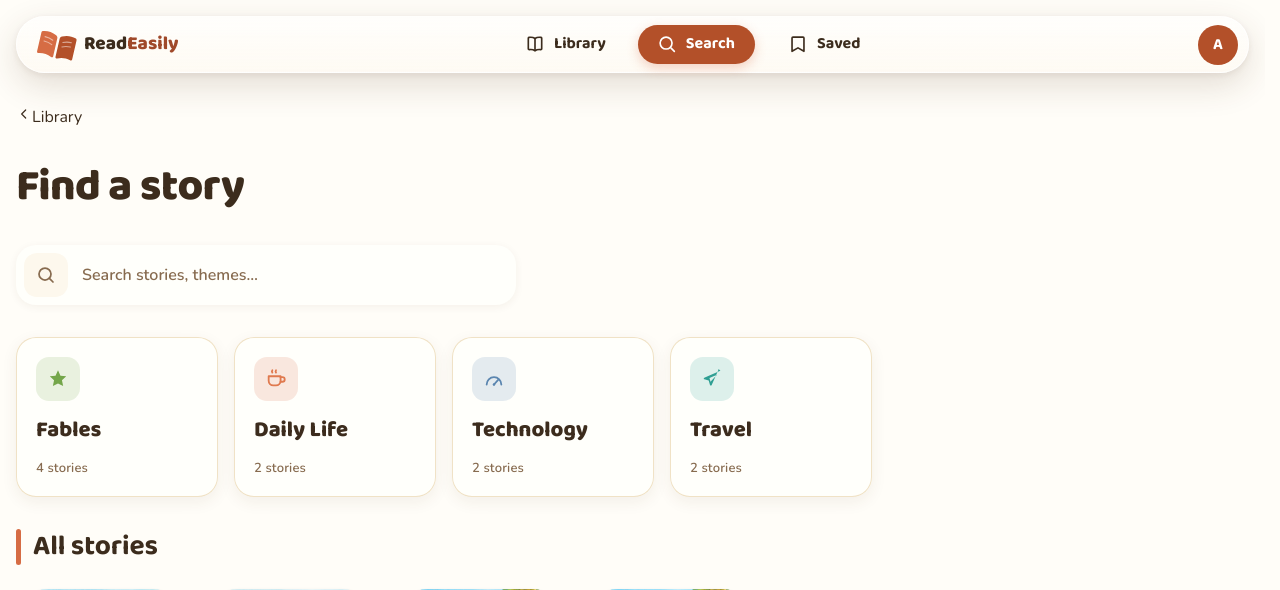
SearchScreen › live-searches the WHOLE catalog by title, ignoring the active category
Expected: the heading "All stories" is shown, 16,524 -> 158,569
# Narrow the browse view to Fables first — the text search must ignore it.
Click the link "Fables 4 stories".
click(117, 417)  # box 16,337 -> 218,497
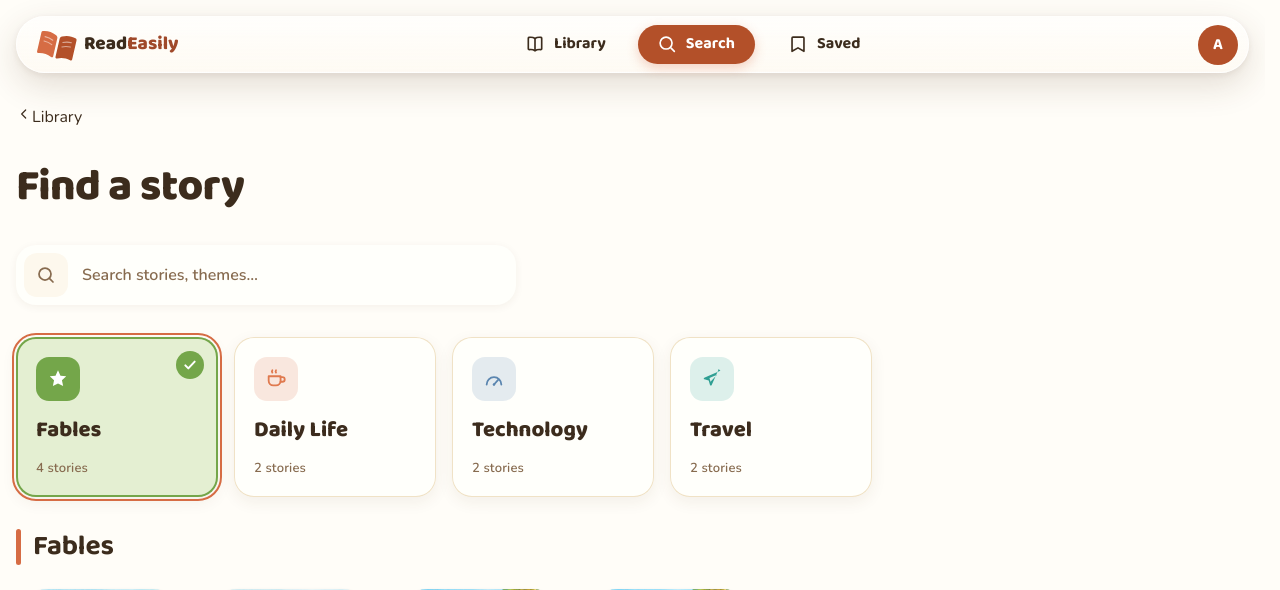
Result: the heading "Fables" is shown at 16,524 -> 114,569
# "lost" matches stories in TWO different categories (daily-life + travel).
Type "lost" into the search field.
click(293, 275); type("lost")  # box 82,263 -> 504,287
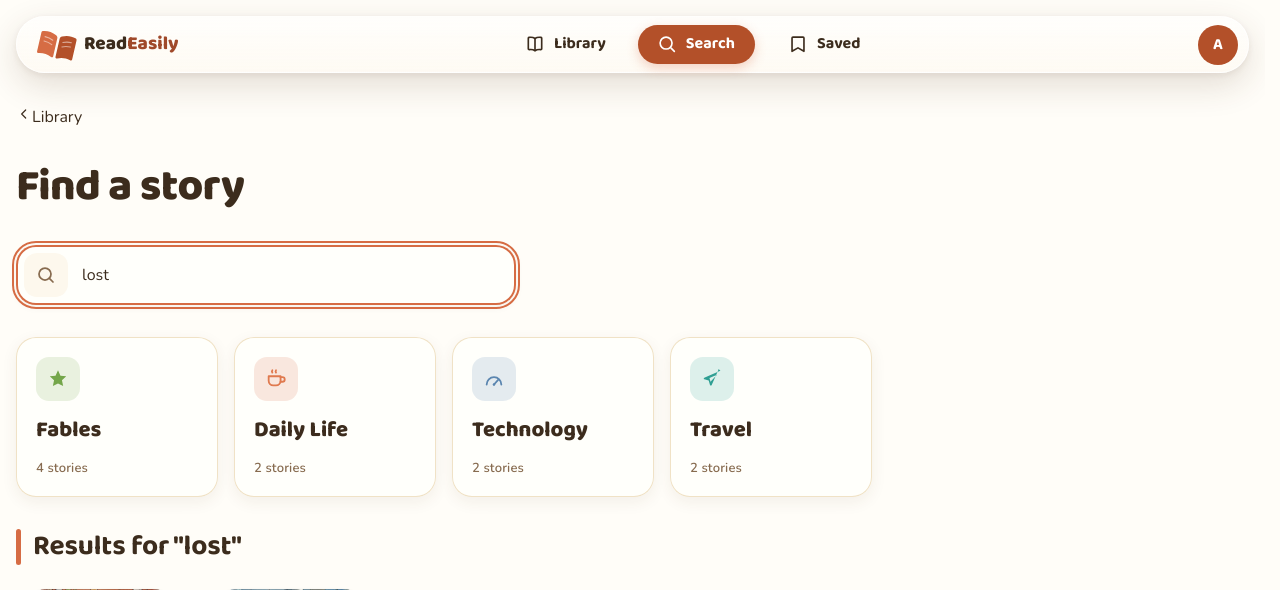
Result: the heading "Results for \"lost\"" is shown at 16,524 -> 242,569
